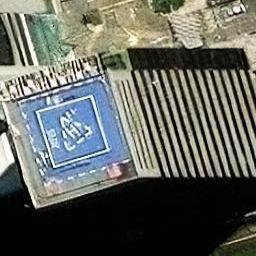heliponto: (37, 96, 111, 166)
